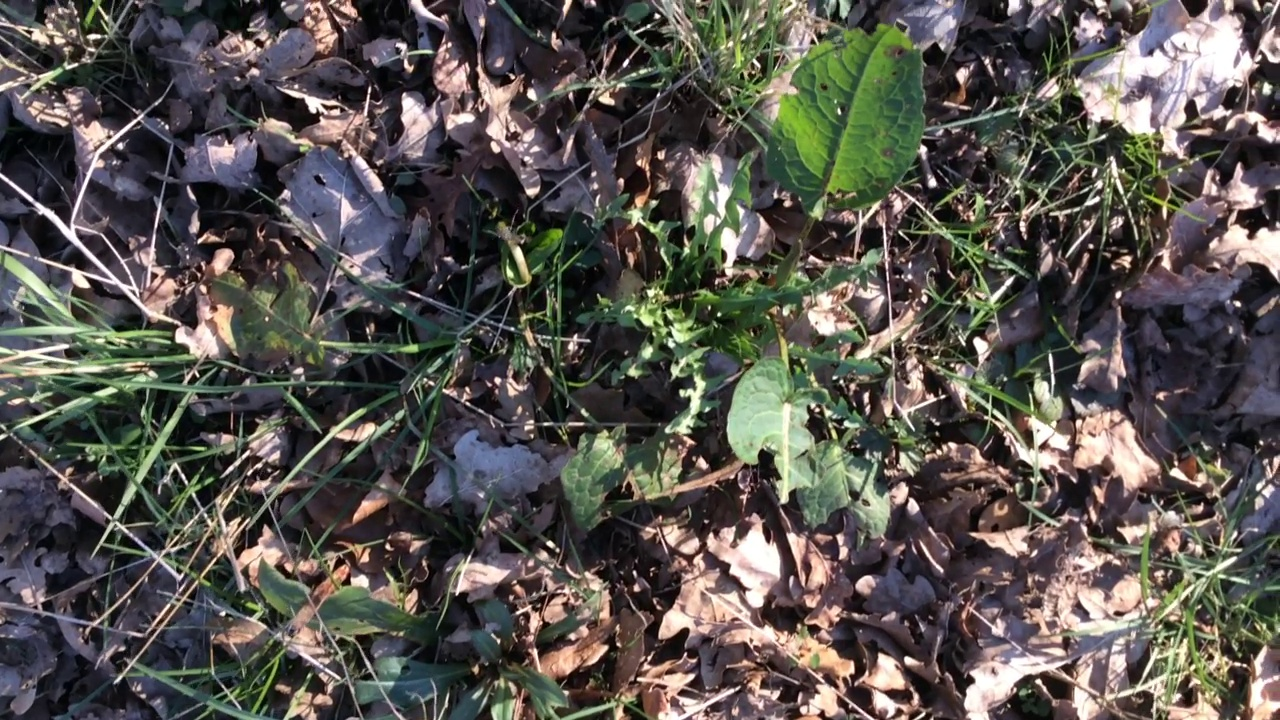rumex: (562, 26, 928, 540)
